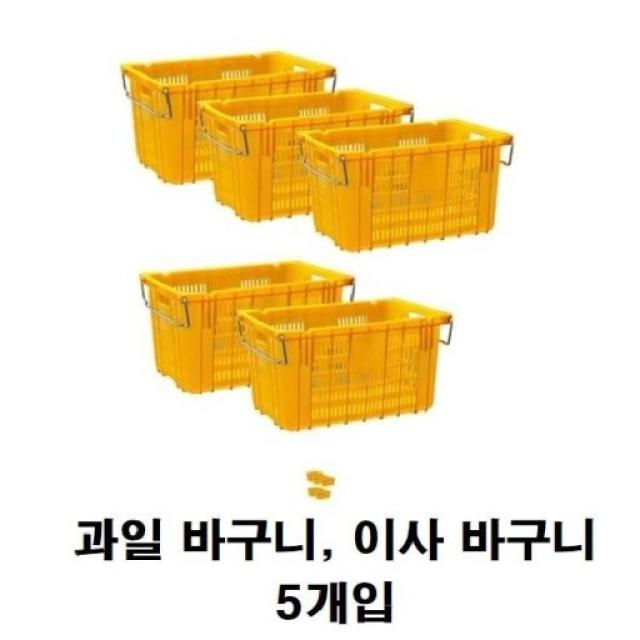basket: (300, 108, 524, 256), (120, 42, 346, 188), (237, 291, 462, 436), (139, 255, 364, 398), (198, 84, 422, 225)
